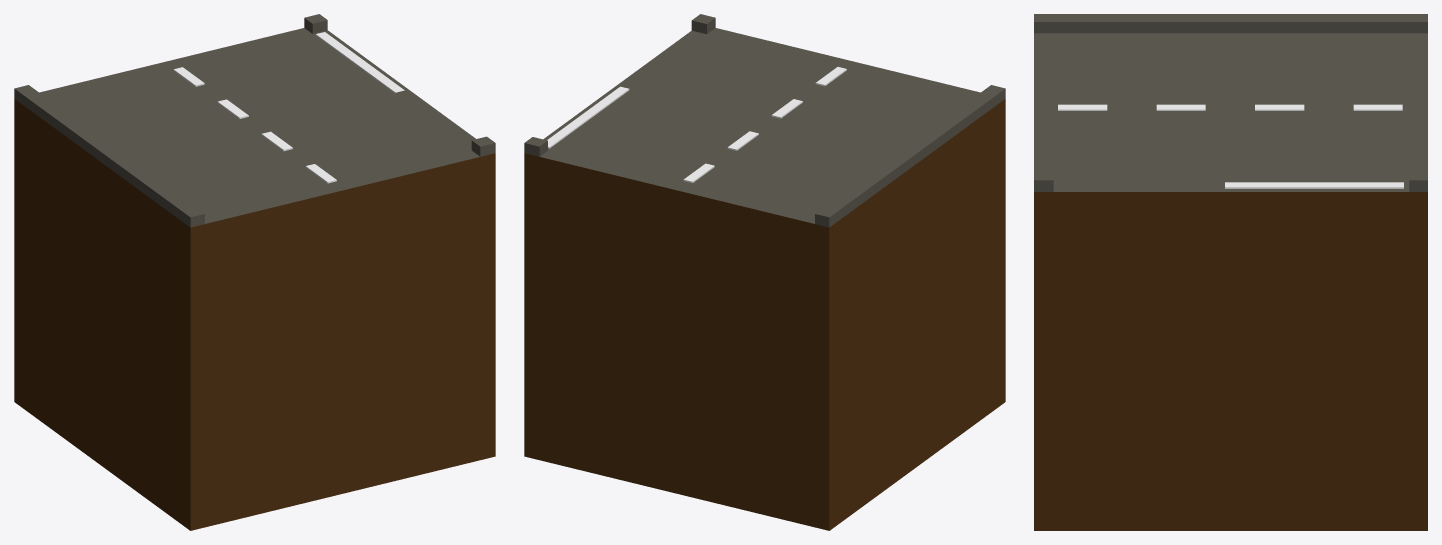
Rendered from CityRoadCrossingCube_02.fbx.
3 renders of one model, left to right at view 1: azimuth 30°, elevation 25°; view 2: azimuth 150°, elevation 25°; view 3: azimuth 270°, elevation 25°, orthographic. The views are drawn at different scales.
Parts seen in each view (by area): view 1: CityRoadCrossingCube_02; view 2: CityRoadCrossingCube_02; view 3: CityRoadCrossingCube_02.
Boxes of the visible parts, left/top/right/bottom form: CityRoadCrossingCube_02: left=14, top=14, right=495, bottom=530; CityRoadCrossingCube_02: left=524, top=14, right=1005, bottom=530; CityRoadCrossingCube_02: left=1034, top=14, right=1427, bottom=530.
Bounding box in the file's own units: 1 × 0.9818 × 1.
